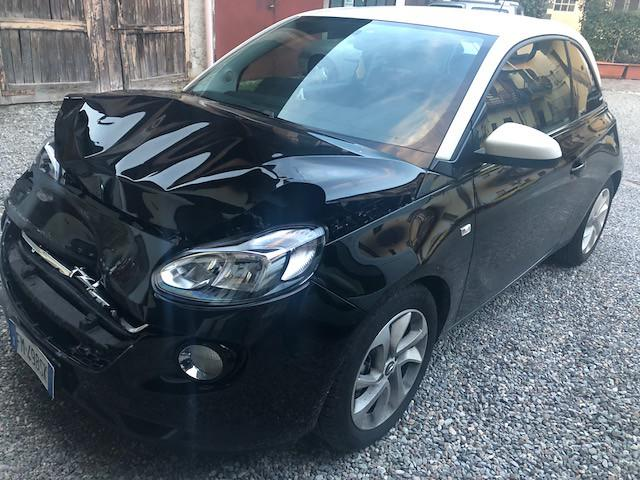bonnet-dent: (52, 80, 368, 226)
fender-dent: (363, 204, 481, 302)
front-bumper-dent: (4, 208, 173, 425)
